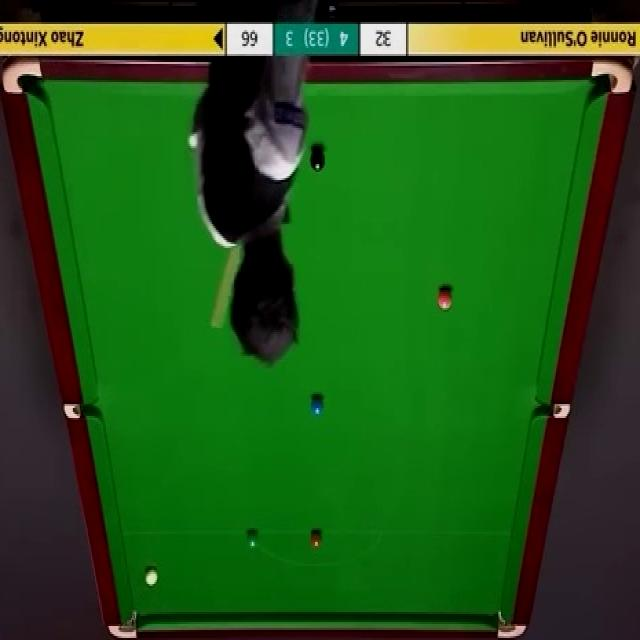pocket: (3, 58, 44, 97), (591, 60, 633, 92), (495, 606, 528, 640), (110, 608, 141, 640), (64, 400, 101, 422), (535, 405, 573, 420)
